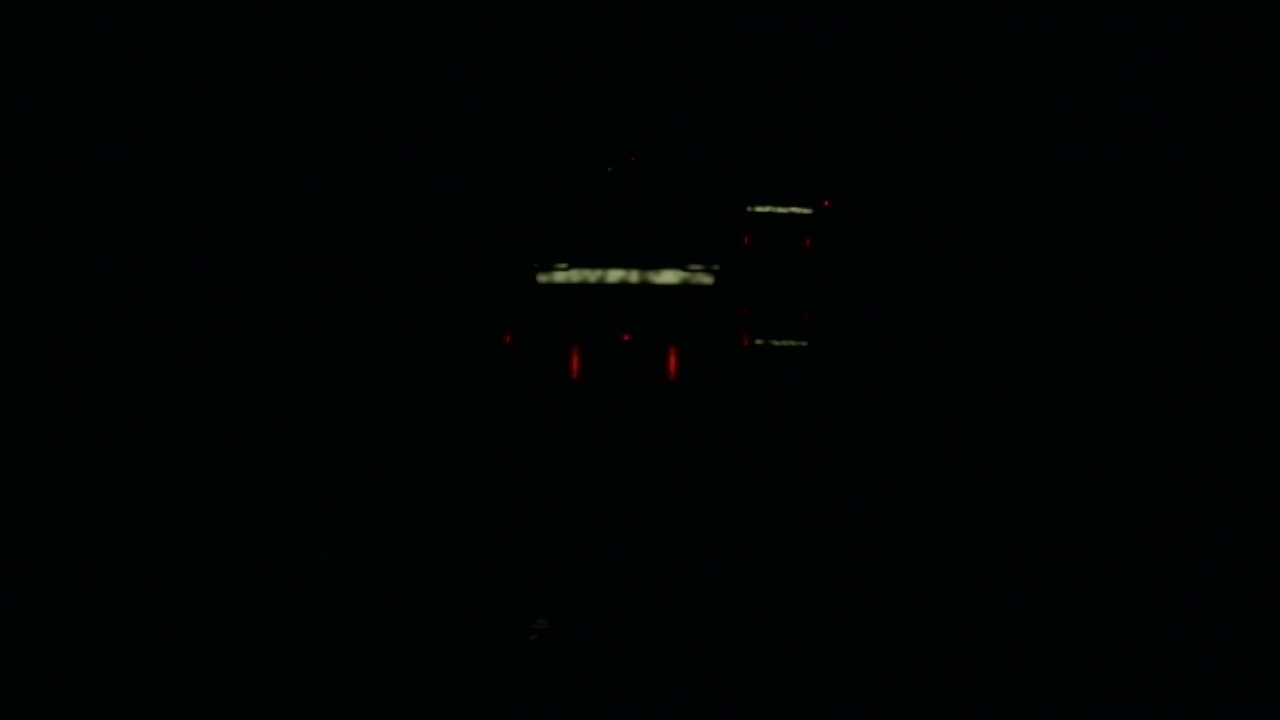lamp: (666, 344, 676, 380), (568, 345, 578, 376)
pair1: (570, 345, 676, 381)
